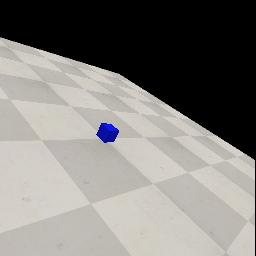box: (96, 123, 119, 143)
